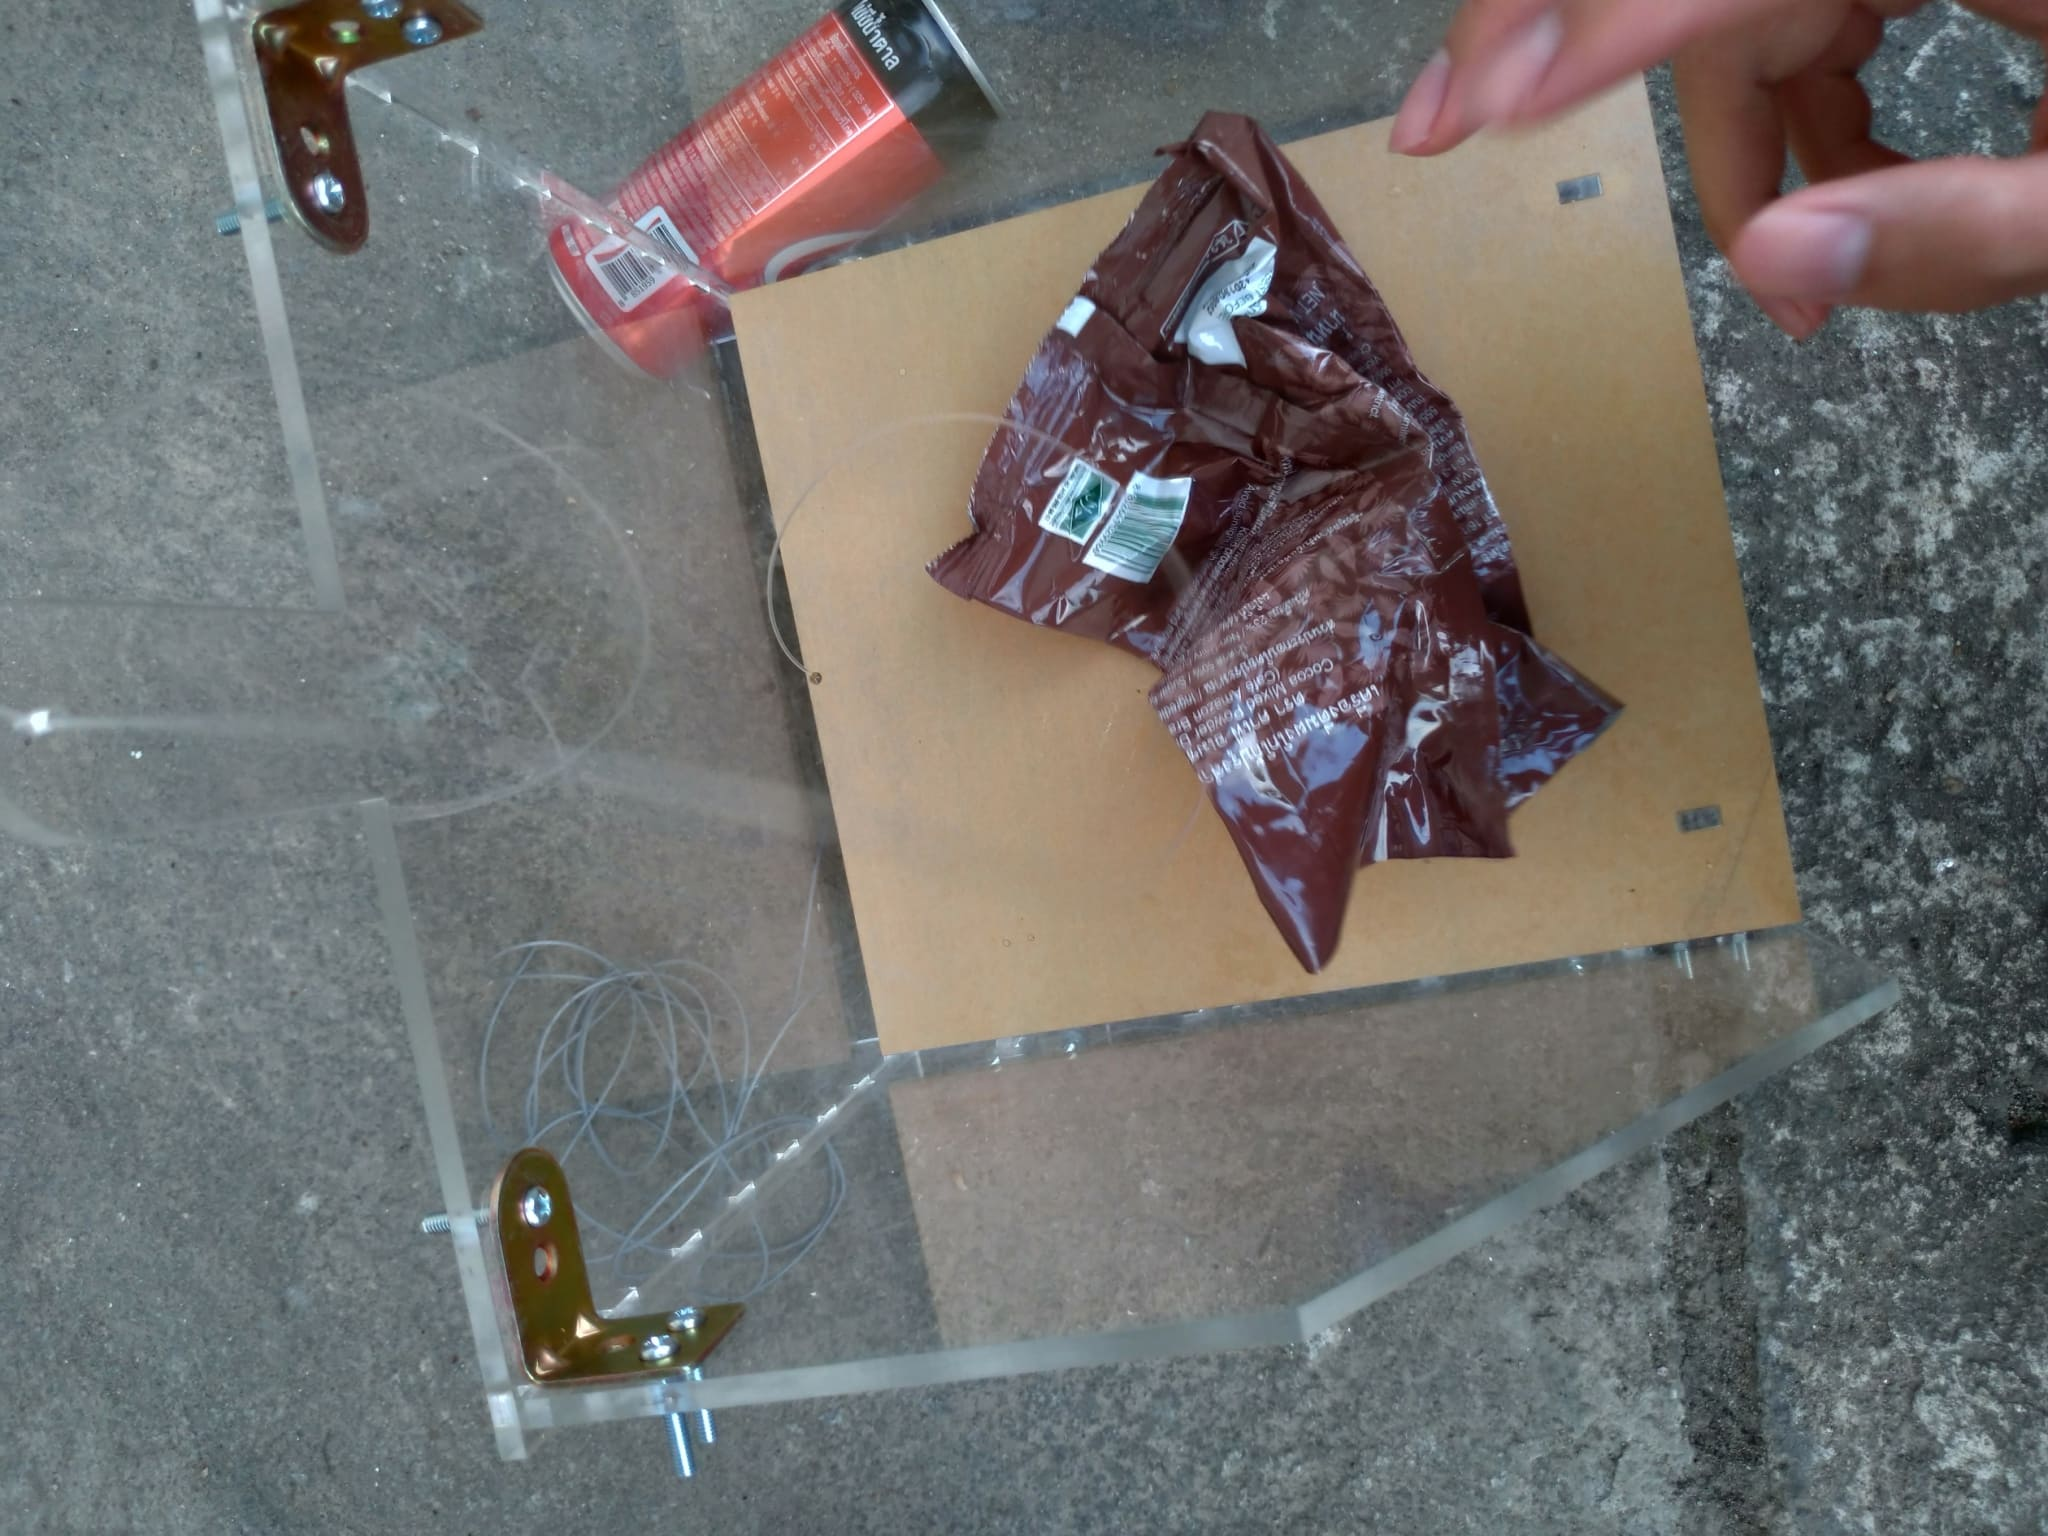AlCan: (552, 5, 998, 369)
Others: (942, 111, 1622, 979)
